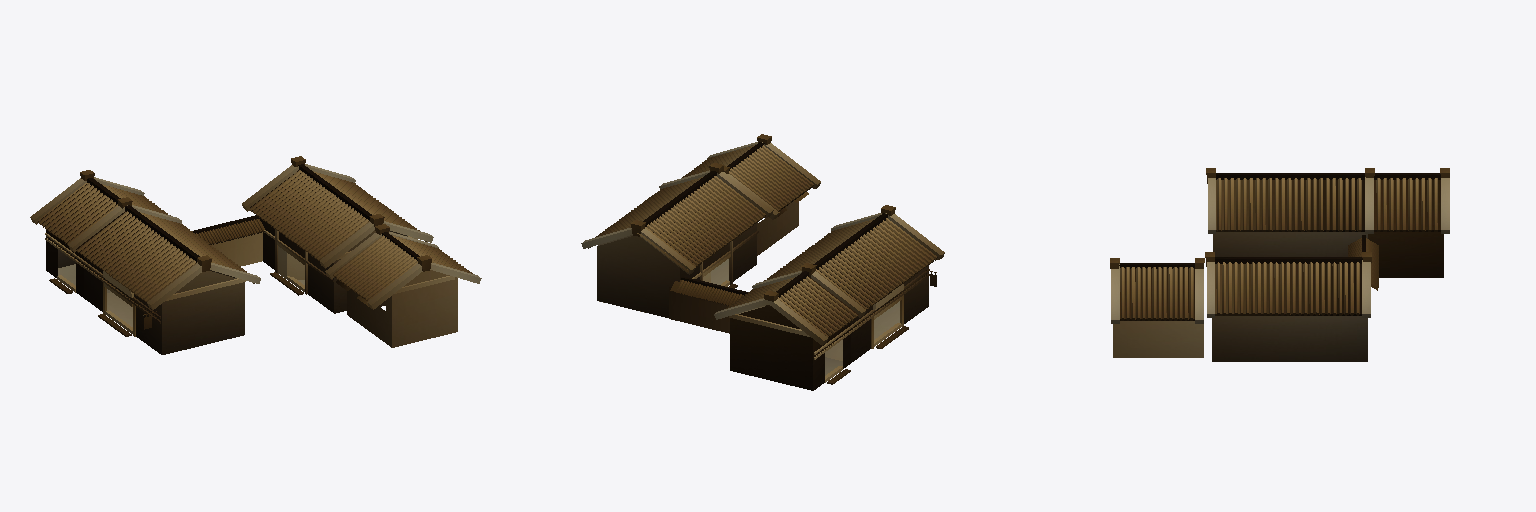
3 renders of one model, left to right at view 1: azimuth 30°, elevation 25°; view 2: azimuth 150°, elevation 25°; view 3: azimuth 270°, elevation 25°, orthographic.
Parts seen in each view (by area): view 1: ??135, ??022, ??001, ??164, ??194, ??040, ??206, ??208, ??025, ??026, ??124, ??042 (+10 smaller); view 2: ??135, ??040, ??010, ??164, ??194, ??206, ??022, ??025, ??001, ??208, ??052, ??054 (+10 smaller); view 3: ??206, ??040, ??208, ??022, ??001, ??207, ??010, ??003, ??036, Box001, ??009, Box015 (+1 smaller).
Boxes of the visible parts, box(x1,y1,x2,y2) form: ??135: box(38, 183, 197, 301); ??022: box(84, 257, 244, 354); ??001: box(336, 270, 457, 347); ??164: box(250, 170, 369, 260); ??194: box(333, 235, 417, 300); ??040: box(260, 218, 407, 313); ??206: box(102, 184, 246, 272); ??208: box(313, 171, 419, 230); ??025: box(212, 232, 262, 265); ??026: box(147, 263, 260, 309); ??124: box(367, 263, 481, 309); ??042: box(320, 221, 433, 268); ??135: box(778, 218, 937, 338); ??040: box(597, 223, 756, 317); ??010: box(730, 306, 850, 390); ??164: box(645, 176, 765, 266); ??194: box(729, 145, 813, 211); ??206: box(726, 219, 874, 308); ??022: box(851, 265, 928, 362); ??025: box(669, 287, 729, 333); ??001: box(757, 192, 808, 255); ??208: box(595, 177, 702, 237); ??052: box(714, 298, 827, 345); ??054: box(581, 228, 695, 274); ??206: box(1217, 178, 1437, 231); ??040: box(1212, 316, 1367, 361); ??208: box(1216, 262, 1359, 315); ??022: box(1213, 232, 1367, 256); ??001: box(1113, 321, 1203, 357); ??207: box(1120, 267, 1193, 320); ??010: box(1368, 232, 1443, 277); ??003: box(1216, 180, 1364, 231); ??036: box(1215, 264, 1361, 315); Box001: box(1216, 173, 1440, 179); ??009: box(1374, 180, 1440, 231); Box015: box(1215, 257, 1362, 263).
Bounding box in the file's own units: 282 × 83.75 × 294.
1 materials, 1 textured.